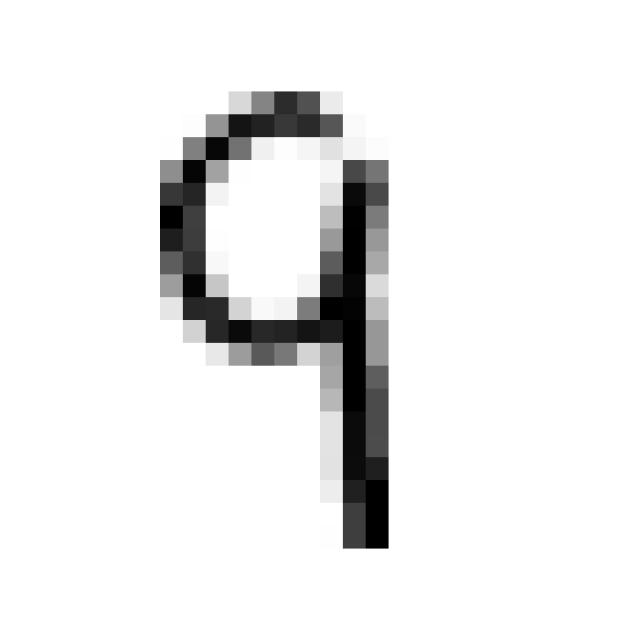9 -nine-: (130, 64, 430, 587)
